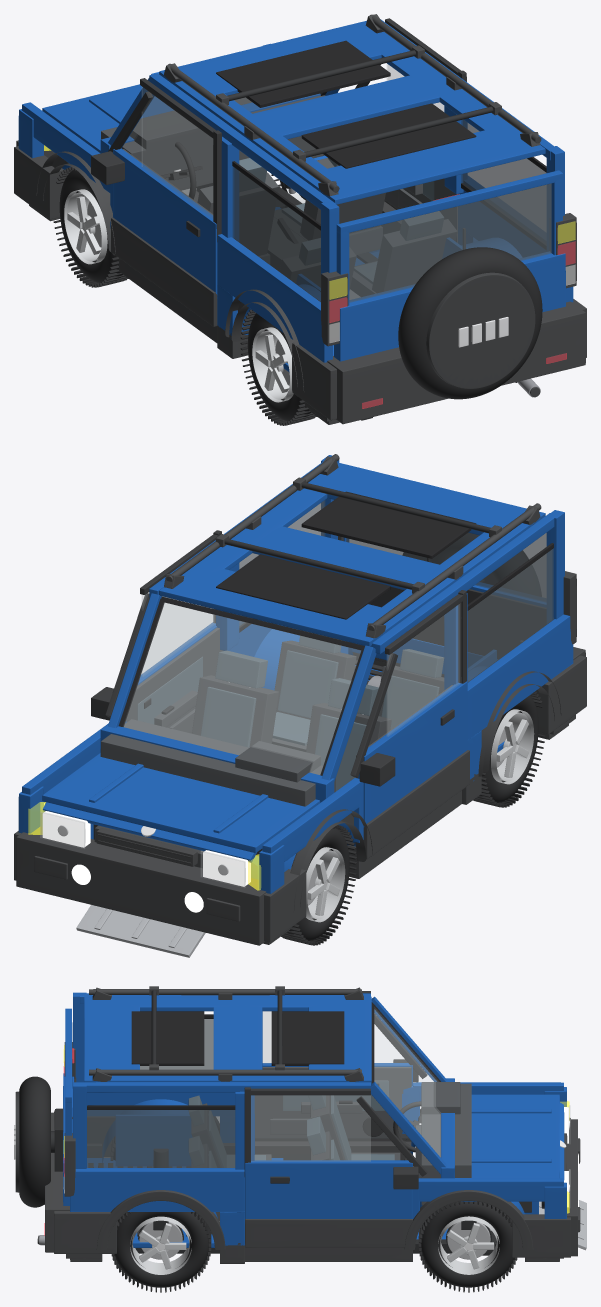
Rendered from vehicle.opt.glb.
The picture shows the model from 3 angles, top to bottom: view 1: azimuth 30°, elevation 25°; view 2: azimuth 150°, elevation 25°; view 3: azimuth 270°, elevation 25°; orthographic projection. The views are drawn at different scales.
Parts seen in each view (by area): view 1: BODY_Toyota_RAV4_Unibody, DOOR_Tailgate, GLASS_Greenhouse, DOOR_FL, INTERIOR_Cockpit, BODY_Toyota_RAV4_Cladding, AERO_Toyota_RAV4_RoofRack, WHEEL_FL, WHEEL_RL, HOOD_Main, LIGHTING_Rear_Optics, DOOR_FR (+2 smaller); view 2: BODY_Toyota_RAV4_Unibody, GLASS_Greenhouse, INTERIOR_Cockpit, BODY_Toyota_RAV4_Cladding, DOOR_FL, HOOD_Main, DOOR_FR, DOOR_Tailgate, AERO_Toyota_RAV4_RoofRack, LIGHTING_Front_Optics, WHEEL_FL, WHEEL_RL (+1 smaller); view 3: BODY_Toyota_RAV4_Unibody, DOOR_FR, GLASS_Greenhouse, BODY_Toyota_RAV4_Cladding, INTERIOR_Cockpit, HOOD_Main, DOOR_FL, WHEEL_FR, DOOR_Tailgate, WHEEL_RR, AERO_Toyota_RAV4_RoofRack, LIGHTING_Rear_Optics (+2 smaller).
Boxes of the visible parts, box(x1,y1,x2,y2) form: BODY_Toyota_RAV4_Unibody: box(18, 19, 573, 424); DOOR_Tailgate: box(334, 170, 565, 399); GLASS_Greenhouse: box(126, 40, 546, 301); DOOR_FL: box(91, 78, 221, 326); INTERIOR_Cockpit: box(101, 95, 457, 296); BODY_Toyota_RAV4_Cladding: box(14, 140, 586, 424); AERO_Toyota_RAV4_RoofRack: box(164, 14, 541, 196); WHEEL_FL: box(53, 167, 128, 287); WHEEL_RL: box(240, 309, 316, 425); HOOD_Main: box(42, 84, 173, 153); LIGHTING_Rear_Optics: box(321, 213, 576, 397); DOOR_FR: box(355, 18, 466, 242); BODY_Toyota_RAV4_Unibody: box(18, 455, 573, 944); GLASS_Greenhouse: box(118, 491, 553, 775); INTERIOR_Cockpit: box(100, 631, 444, 806); BODY_Toyota_RAV4_Cladding: box(14, 647, 586, 957); DOOR_FL: box(350, 590, 469, 859); HOOD_Main: box(42, 753, 320, 862); DOOR_FR: box(91, 530, 223, 733); DOOR_Tailgate: box(343, 532, 546, 676); AERO_Toyota_RAV4_RoofRack: box(164, 454, 541, 638); LIGHTING_Front_Optics: box(28, 802, 260, 912); WHEEL_FL: box(281, 825, 356, 945); WHEEL_RL: box(473, 691, 545, 807); BODY_Toyota_RAV4_Unibody: box(70, 992, 566, 1261); DOOR_FR: box(244, 1087, 427, 1247); GLASS_Greenhouse: box(87, 1002, 440, 1167); BODY_Toyota_RAV4_Cladding: box(44, 1109, 586, 1263); INTERIOR_Cockpit: box(88, 1082, 471, 1236); HOOD_Main: box(455, 1094, 566, 1179); DOOR_FL: box(254, 991, 427, 1141); WHEEL_FR: box(418, 1201, 517, 1292); DOOR_Tailgate: box(14, 1008, 76, 1207); WHEEL_RR: box(111, 1212, 211, 1292); AERO_Toyota_RAV4_RoofRack: box(89, 986, 363, 1081); LIGHTING_Rear_Optics: box(37, 1042, 75, 1245).
Size of what is drawn, in the model's own units: 1.95 by 1.71 by 4.09.
